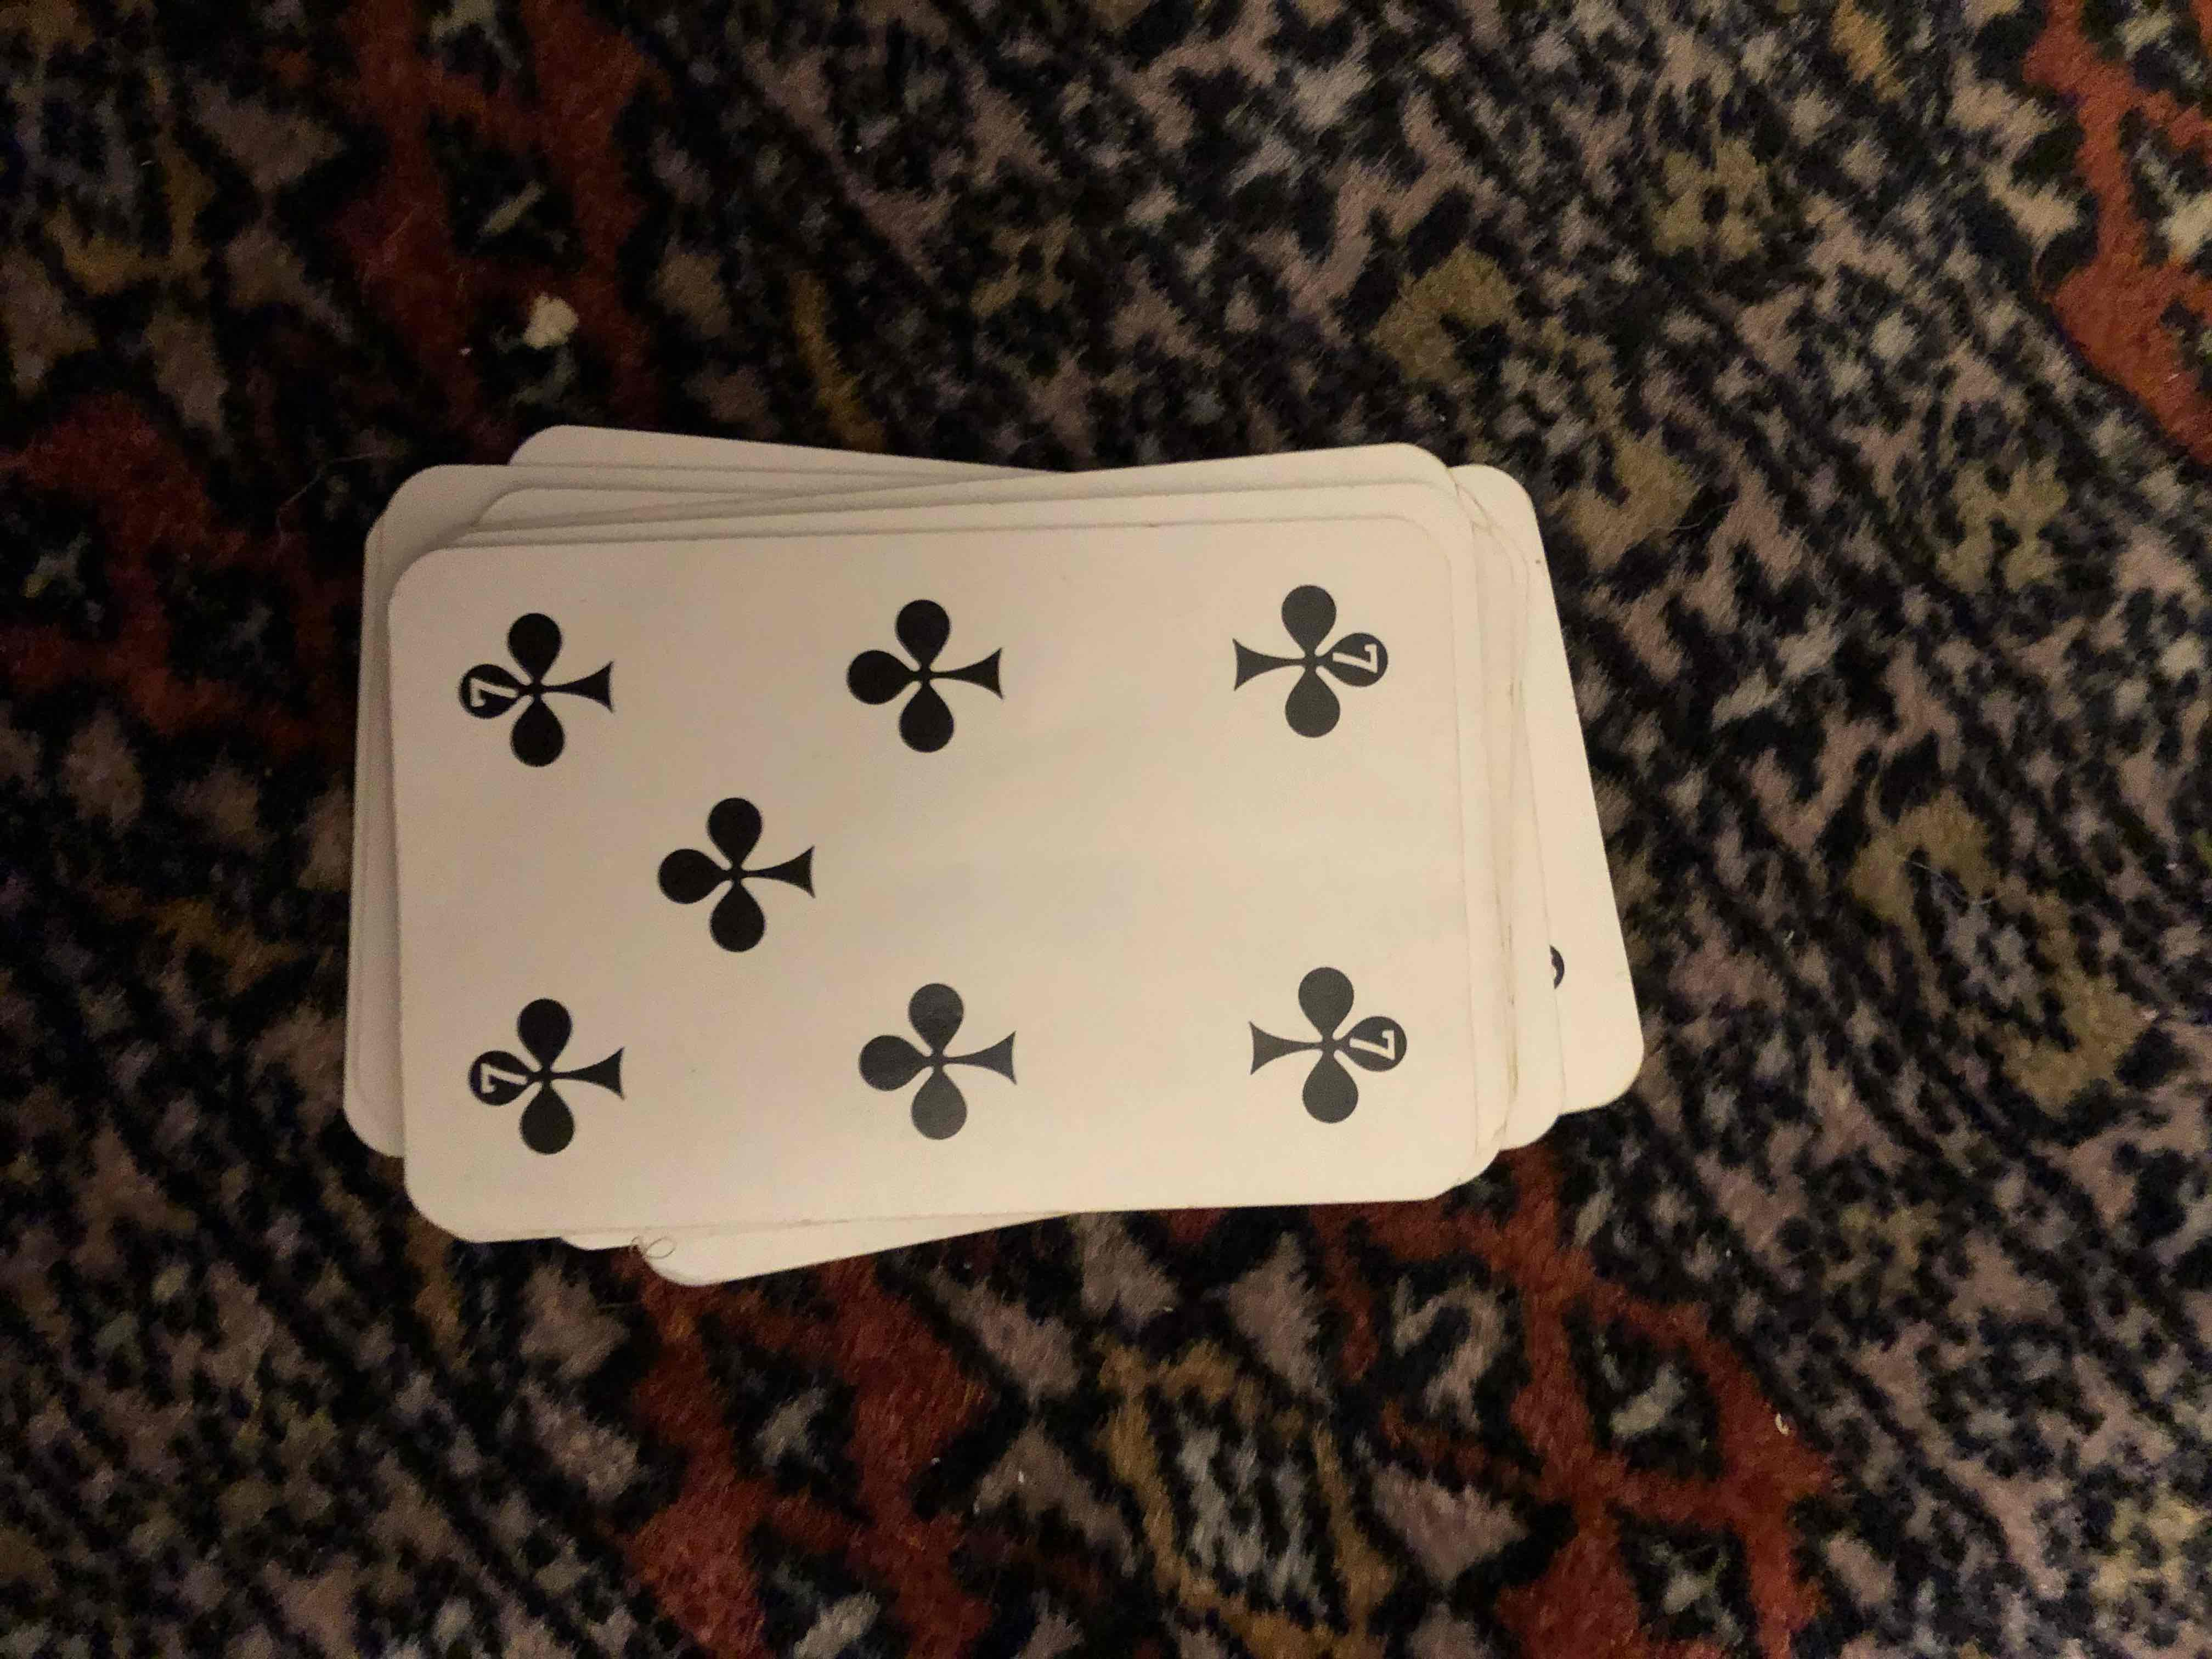clubs7: (413, 538, 1496, 1195)
